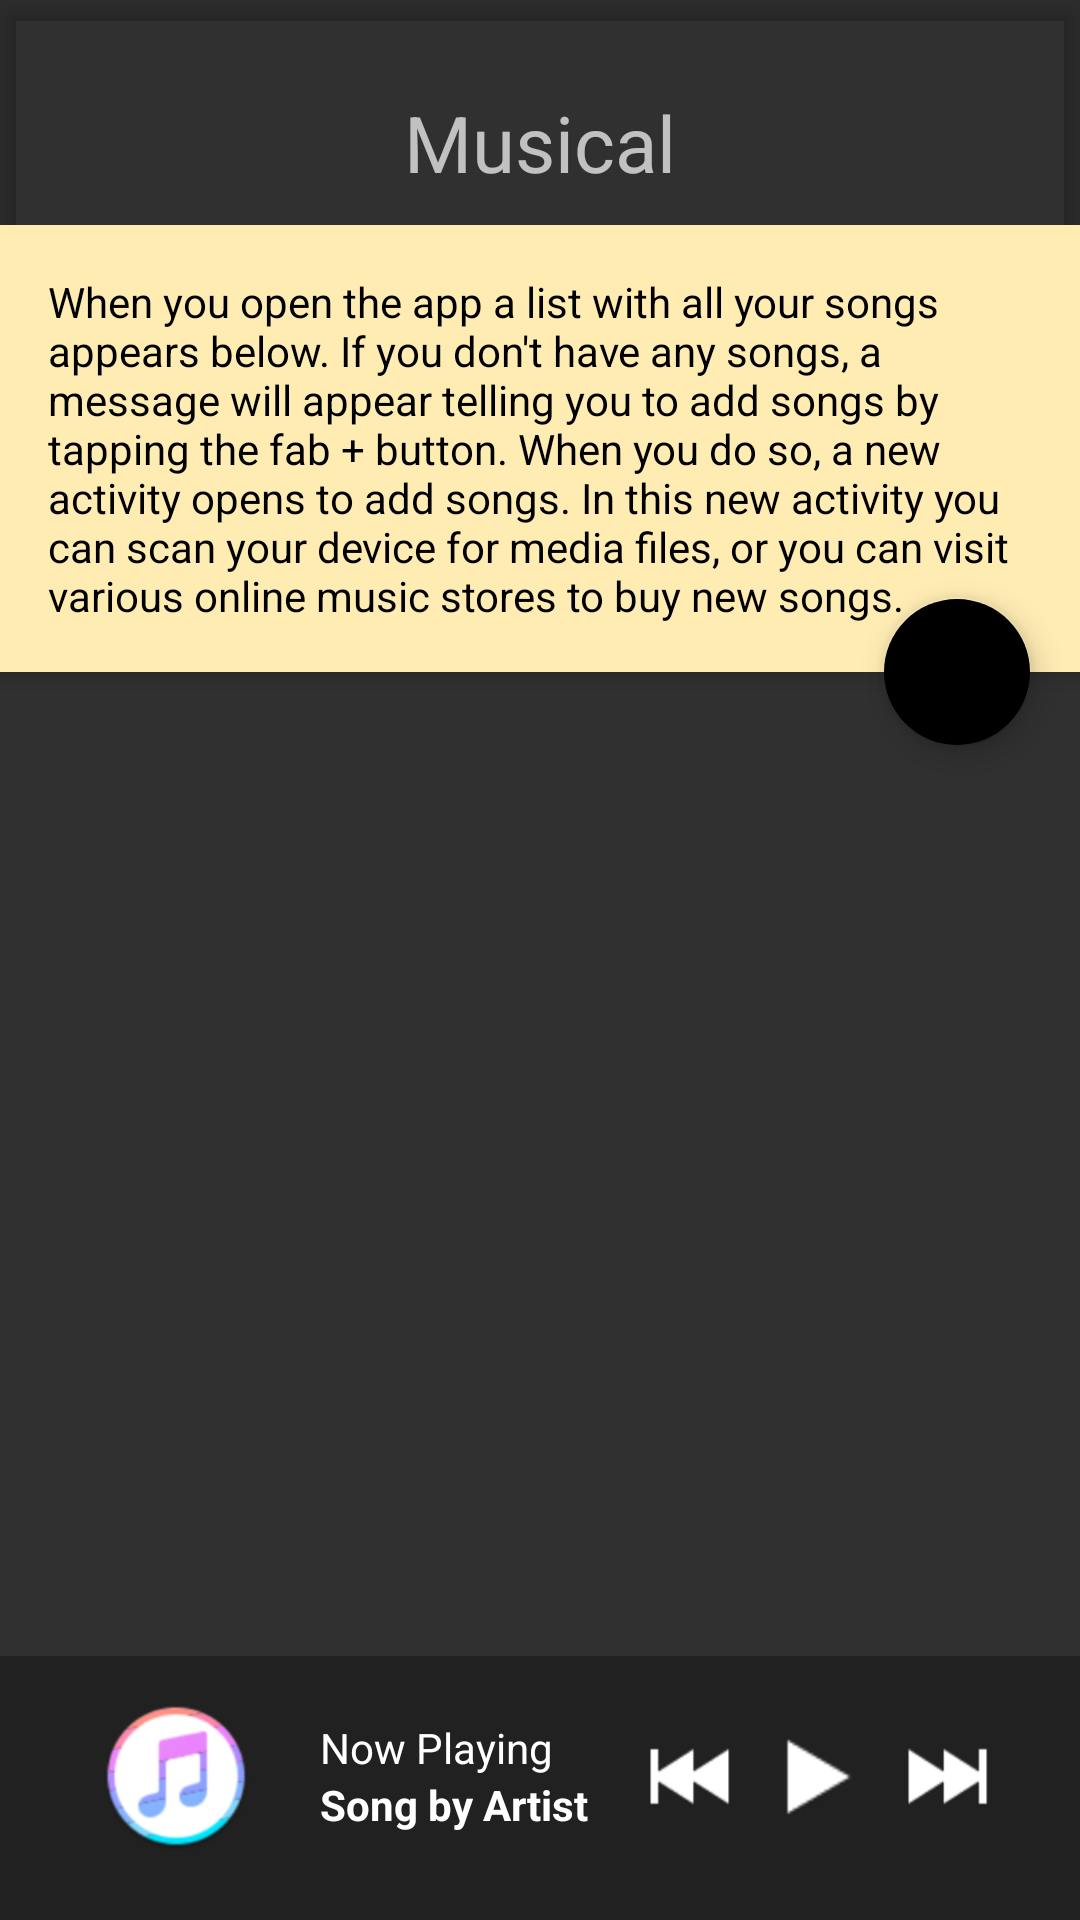

Named icons in this screenshot (1080 × 1920) and their bounding boxes, {"x1": x1, "y1": y1, "x2": x2, "y2": y2}:
Go to the next song: {"x1": 908, "y1": 1748, "x2": 987, "y2": 1805}
Go to the previous song: {"x1": 650, "y1": 1748, "x2": 729, "y2": 1805}
Play Song: {"x1": 787, "y1": 1739, "x2": 850, "y2": 1814}
